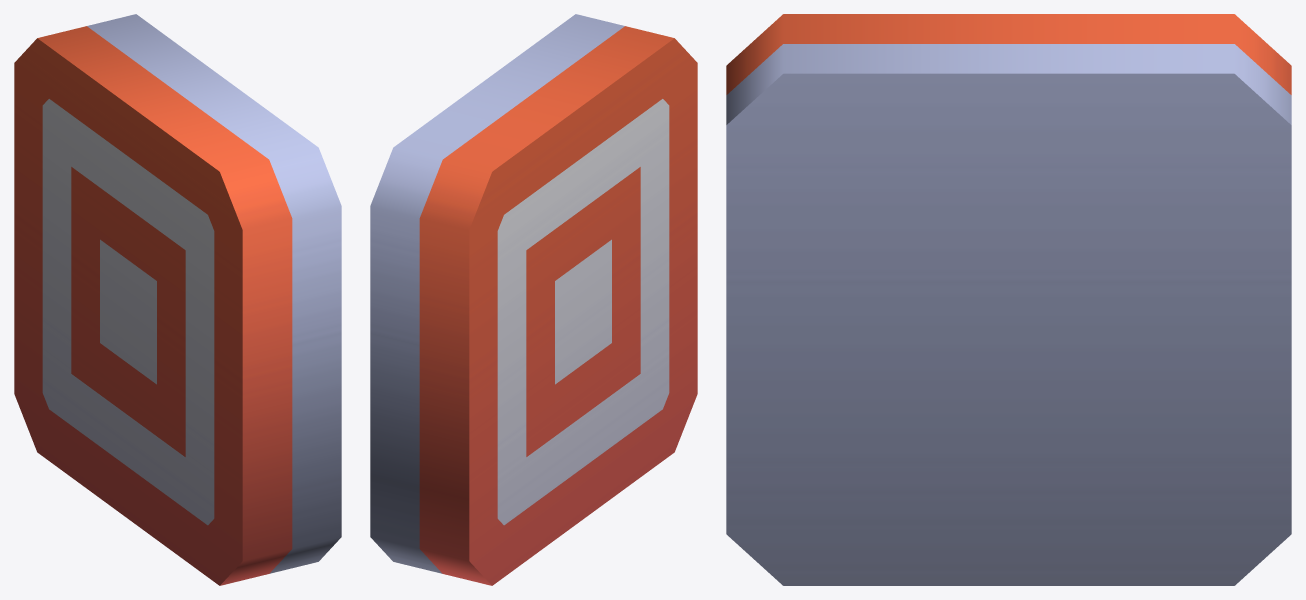
The model's file is target-b-square.fbx.
3 renders of one model, left to right at view 1: azimuth 30°, elevation 25°; view 2: azimuth 150°, elevation 25°; view 3: azimuth 270°, elevation 25°, orthographic. The views are drawn at different scales.
Parts seen in each view (by area): view 1: target-b-square; view 2: target-b-square; view 3: target-b-square.
Boxes of the visible parts, <box> form: target-b-square: <box>14,14,341,585</box>; target-b-square: <box>370,14,697,585</box>; target-b-square: <box>726,14,1291,585</box>.
Bounding box in the file's own units: 12.4 × 49.6 × 49.6.
